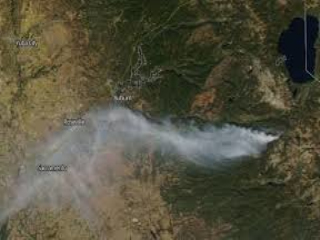smoke: (65, 96, 280, 171)
